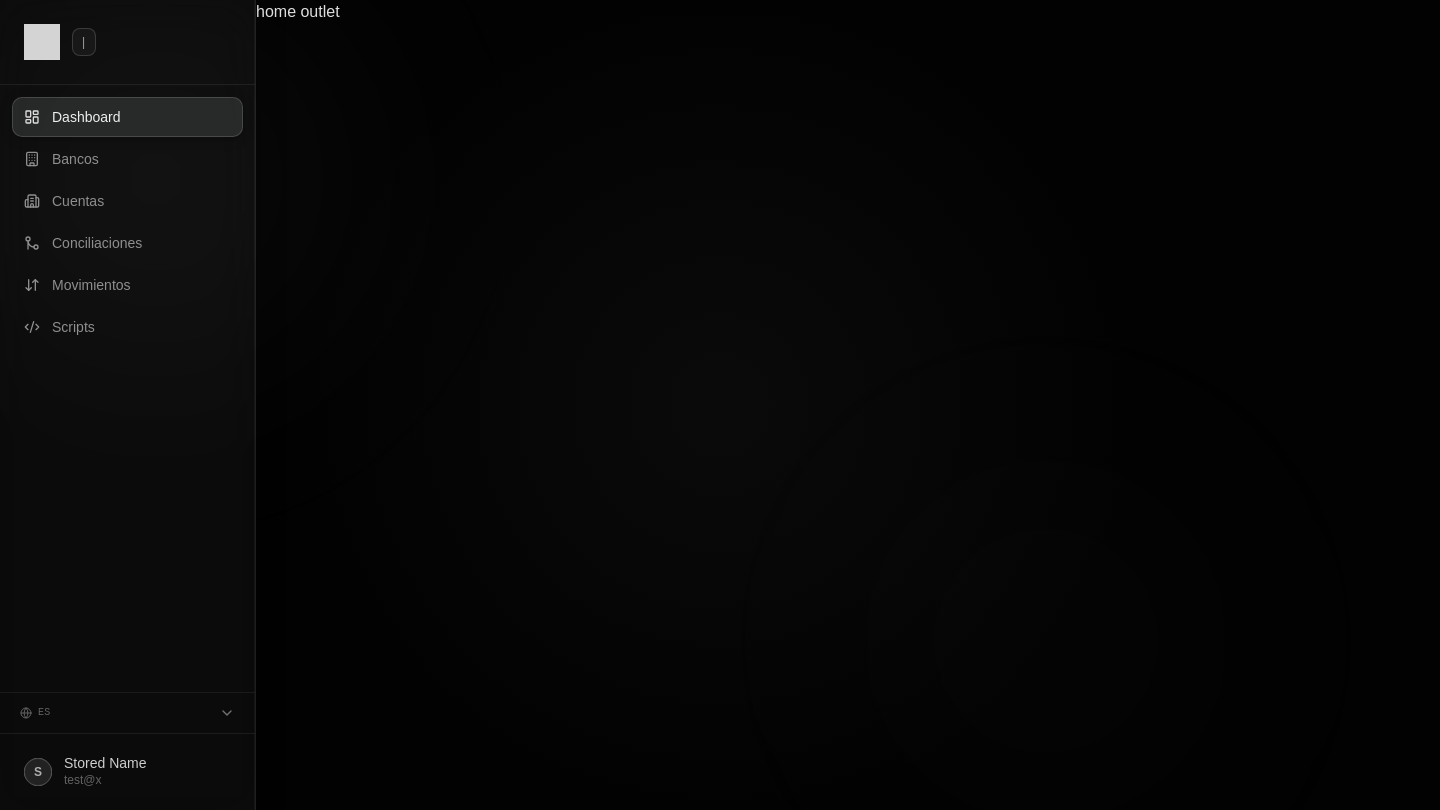
Test: AppLayout › toggles the settings dialog open when the Settings menu item is activated
The width and height of the screenshot is (1440, 810).
Click the button "S Stored Name test@x": point(128, 772) x1=12 y1=746 x2=243 y2=798
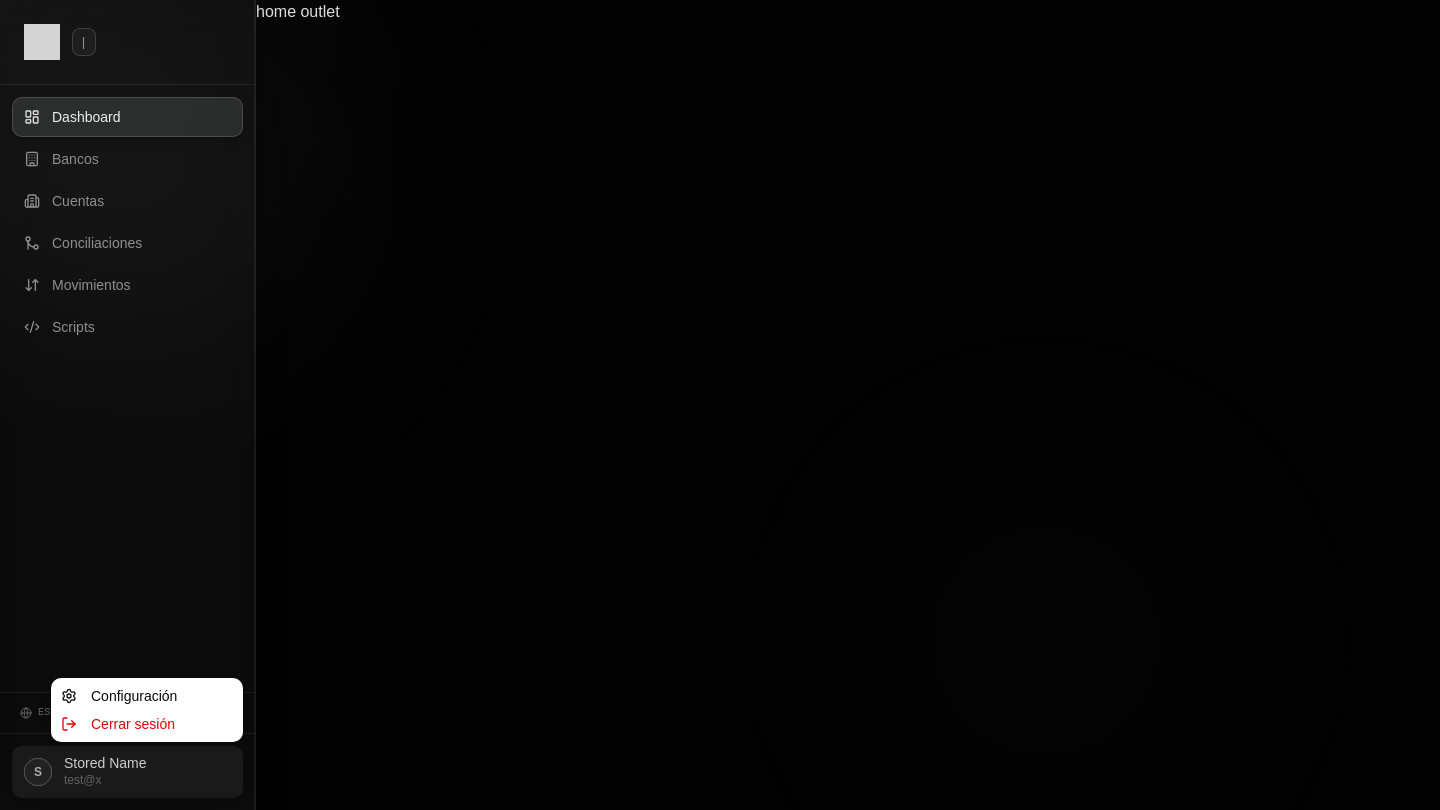
Click the menu item "Configuración": point(119, 696) x1=61 y1=688 x2=177 y2=704
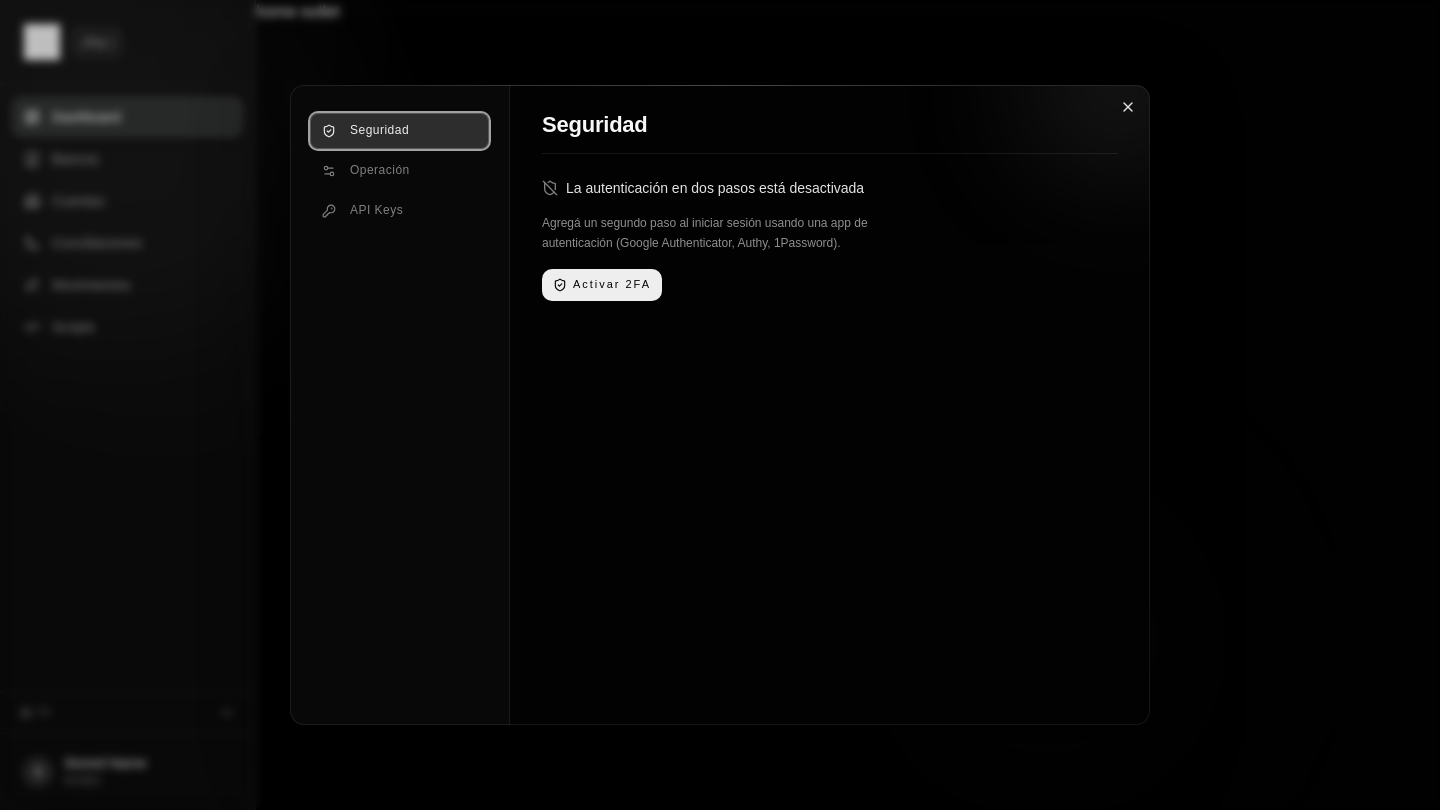
Check: the dialog is shown, box x1=290 y1=85 x2=1150 y2=725
